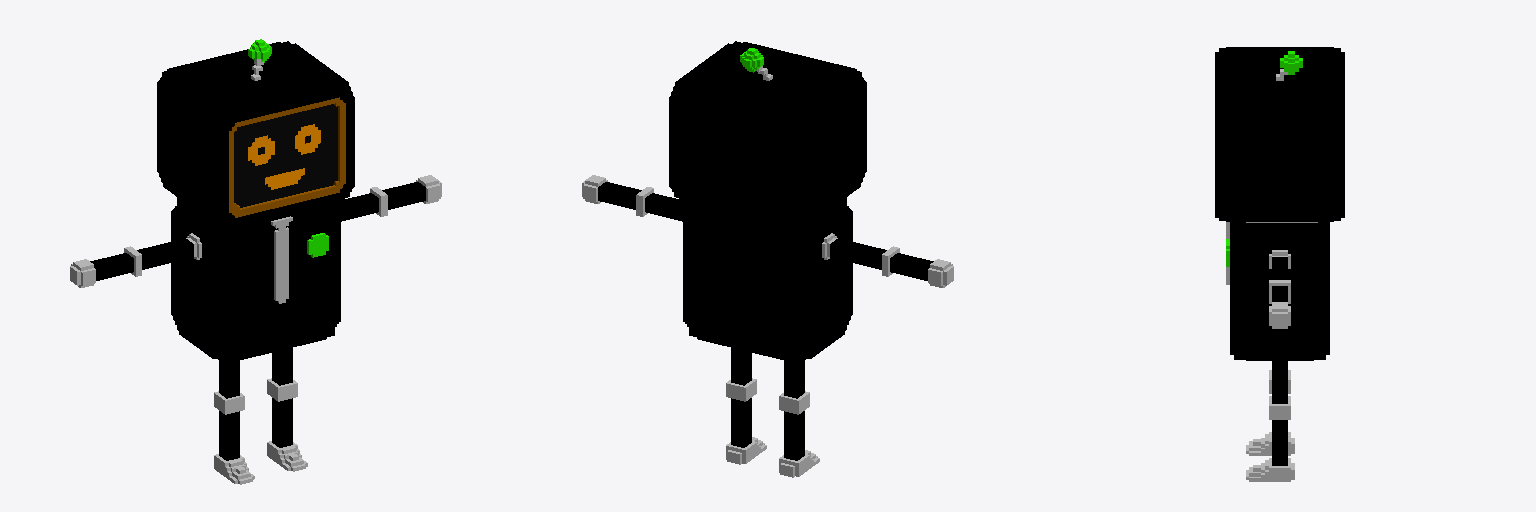
The picture shows the model from 3 angles: view 1: azimuth 30°, elevation 25°; view 2: azimuth 150°, elevation 25°; view 3: azimuth 270°, elevation 25°; orthographic projection.
Visible parts, largest first — view 1: object 1; view 2: object 1; view 3: object 1.
Part boxes in pixels (bbox=[...]): object 1: bbox=[70, 39, 441, 484]; object 1: bbox=[582, 41, 953, 477]; object 1: bbox=[1215, 47, 1344, 481].
Size of the model in its own units: 11 by 12 by 3.4.
Materials: 1 (1 with a texture image).